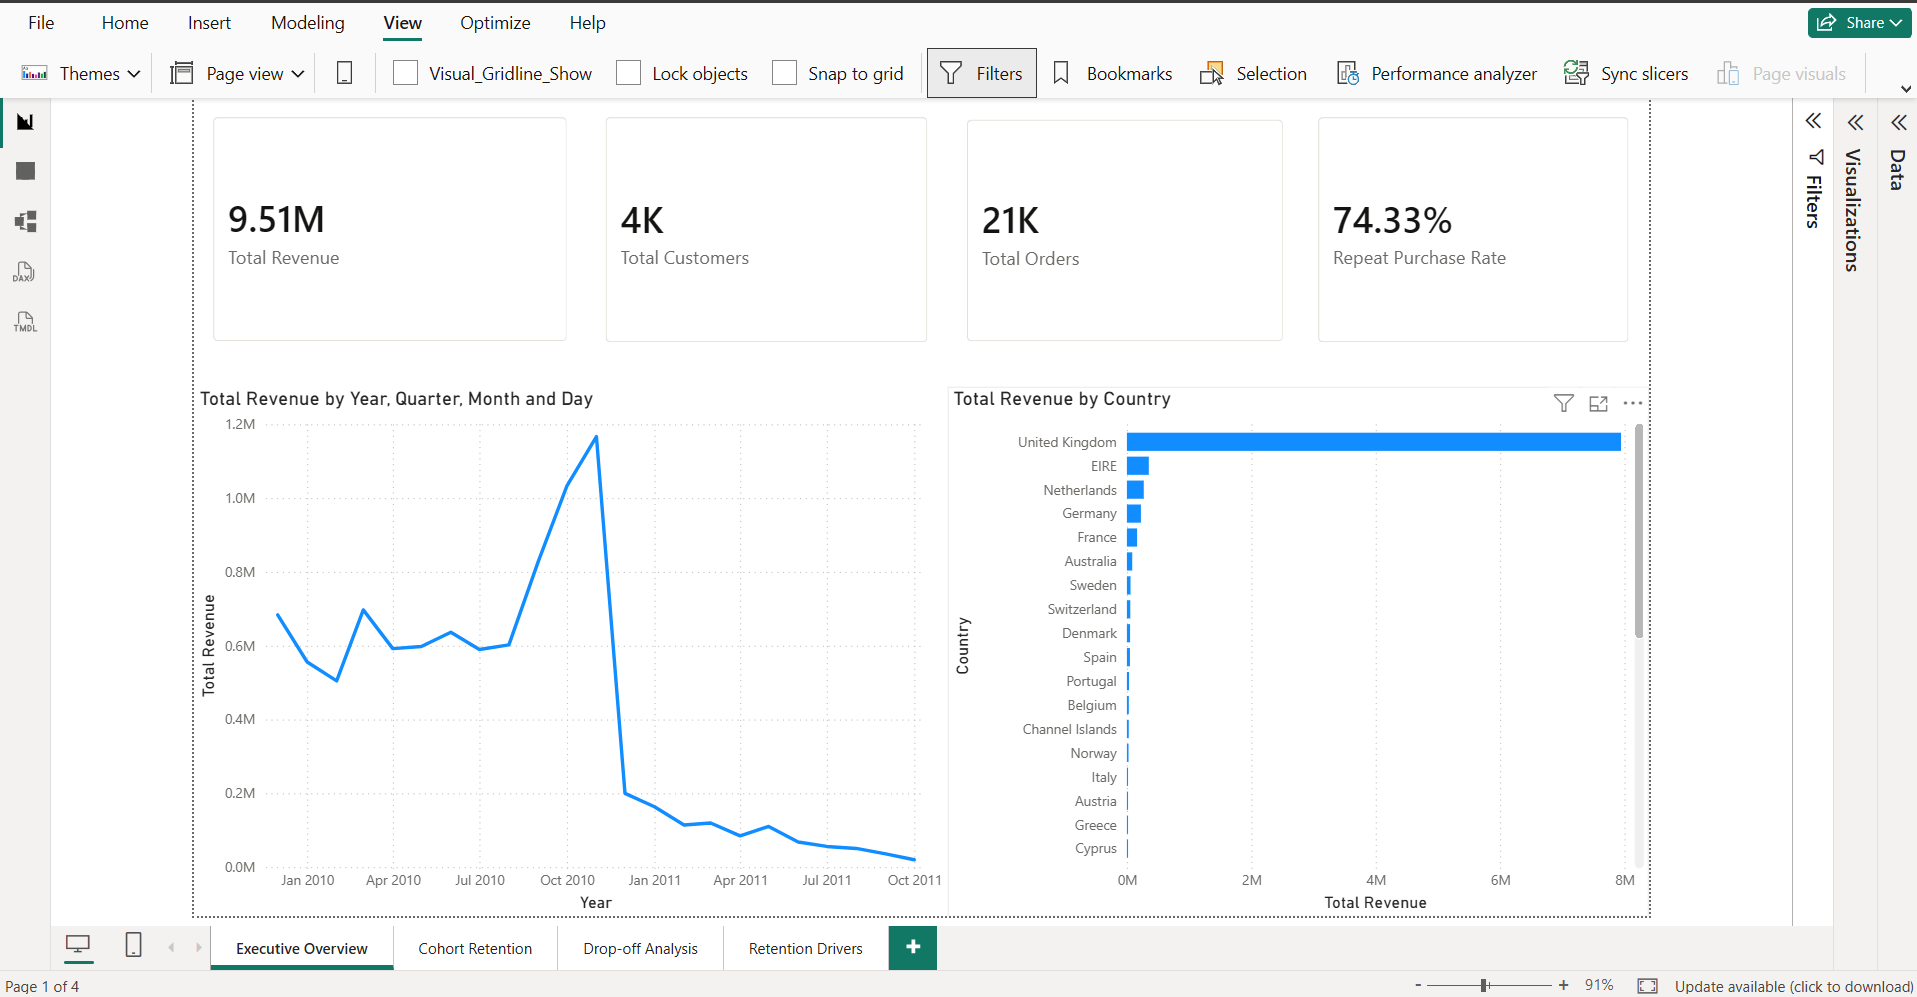

What the dashboard file says about the page in this screenshot:
{"tool":"powerbi","page":{"name":"Executive Overview","canvas":[1280,720],"ordinal":0},"visuals":[{"type":"cardVisual","fields":{"Data":["cleaned_ecommerce_orders.Total Revenue"]},"box":[0,0,345.8,231.9],"z":0},{"type":"cardVisual","fields":{"Data":["cleaned_ecommerce_orders.Total Customers"]},"box":[345.3,0,317.8,232],"z":1},{"type":"cardVisual","fields":{"Data":["cleaned_ecommerce_orders.Total Orders"]},"box":[663,2.2,312.3,229.8],"z":2},{"type":"cardVisual","fields":{"Data":["cleaned_ecommerce_orders.Repeat Purchase Rate"]},"box":[972,0,307.9,232],"z":3},{"type":"lineChart","fields":{"Y":["cleaned_ecommerce_orders.Total Revenue"],"Category":["cleaned_ecommerce_orders.OrderMonth.Variation.Date Hierarchy.Year","cleaned_ecommerce_orders.OrderMonth.Variation.Date Hierarchy.Quarter","cleaned_ecommerce_orders.OrderMonth.Variation.Date Hierarchy.Month","cleaned_ecommerce_orders.OrderMonth.Variation.Date Hierarchy.Day"]},"box":[0,253.9,662.8,466.6],"z":4},{"type":"clusteredBarChart","fields":{"Y":["cleaned_ecommerce_orders.Total Revenue"],"Category":["cleaned_ecommerce_orders.Country"]},"box":[662.8,253.9,617.5,466.6],"z":5}]}

Visuals, with their boxes on the page's 1280x720 design canvas (x1, y1, x2, y2). These are canvas units, not pixel positions in the 1917x997 screenshot, which may show the page scaled, cropped or inside an application window:
cardVisual - cleaned_ecommerce_orders.Total Revenue: {"left": 0, "top": 0, "right": 346, "bottom": 232}
cardVisual - cleaned_ecommerce_orders.Total Customers: {"left": 345, "top": 0, "right": 663, "bottom": 232}
cardVisual - cleaned_ecommerce_orders.Total Orders: {"left": 663, "top": 2, "right": 975, "bottom": 232}
cardVisual - cleaned_ecommerce_orders.Repeat Purchase Rate: {"left": 972, "top": 0, "right": 1280, "bottom": 232}
lineChart - cleaned_ecommerce_orders.Total Revenue x cleaned_ecommerce_orders.OrderMonth.Variation.Date Hierarchy.Year: {"left": 0, "top": 254, "right": 663, "bottom": 720}
clusteredBarChart - cleaned_ecommerce_orders.Total Revenue x cleaned_ecommerce_orders.Country: {"left": 663, "top": 254, "right": 1280, "bottom": 720}
